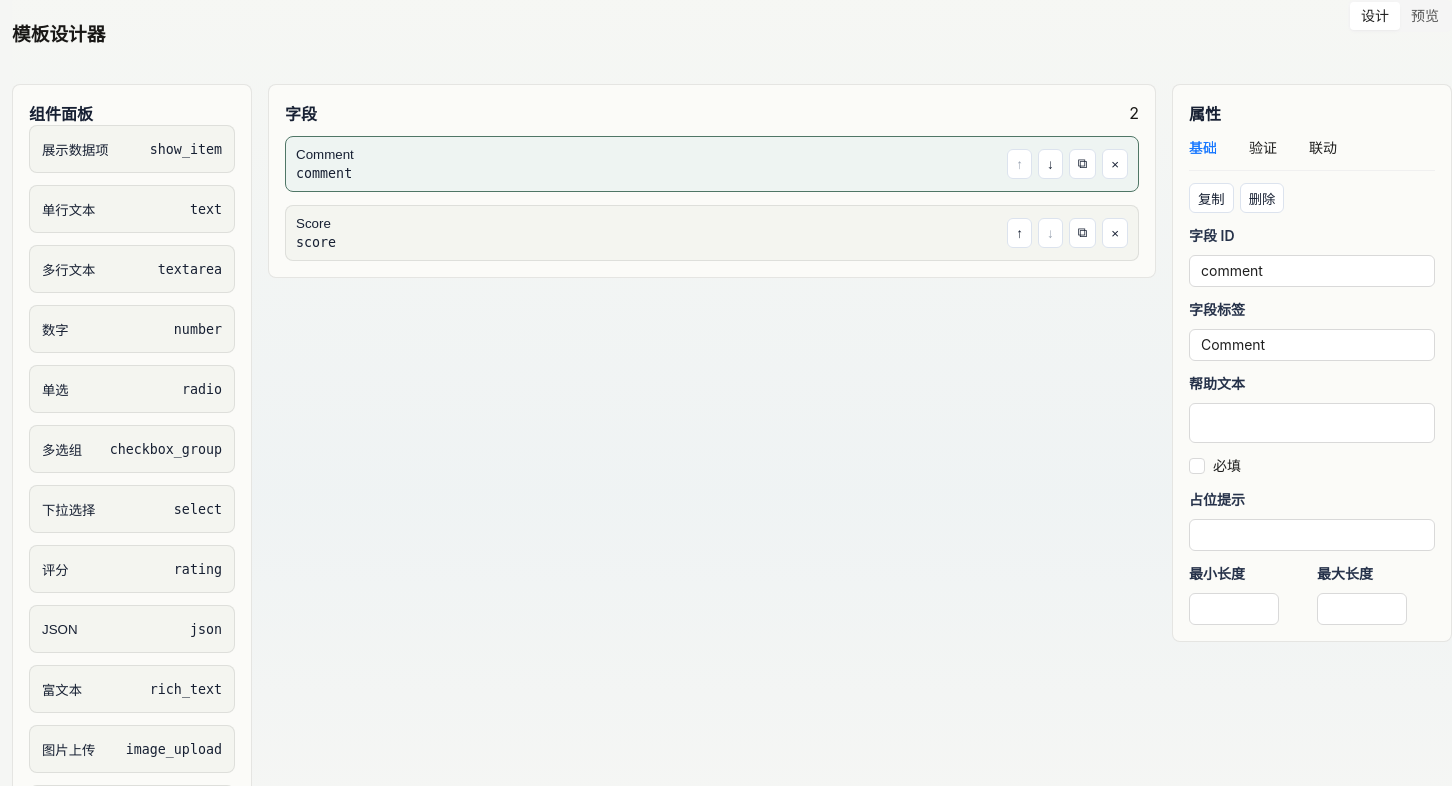
Scenario: TemplateDesigner › deletes the selected field and selects a stable neighbor
The width and height of the screenshot is (1452, 786).
Click the button named "删除 Comment" at (1115, 164), box [1102,149,1128,179]
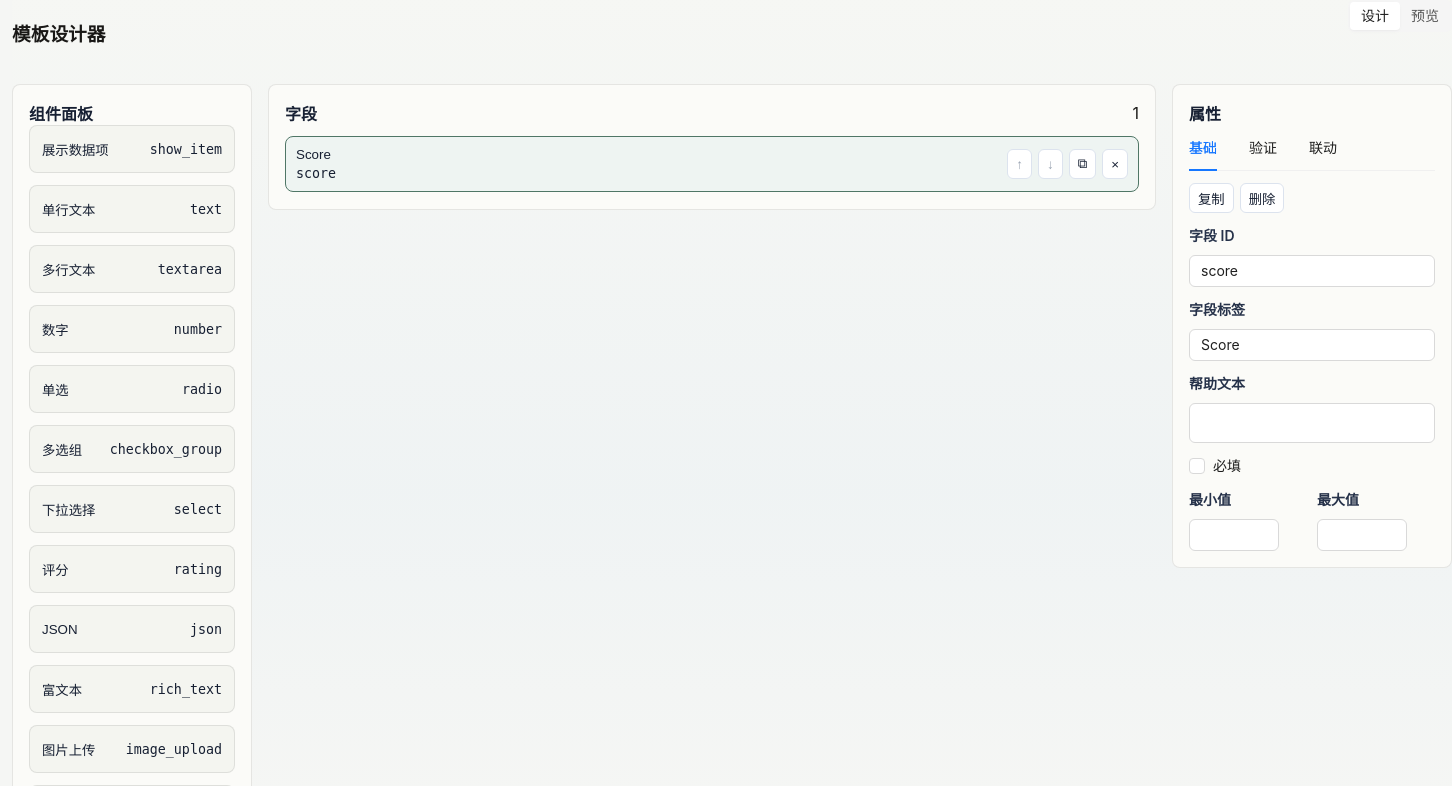
Check: the field labelled "字段 ID" holds "score", box [1189,255,1435,287]
